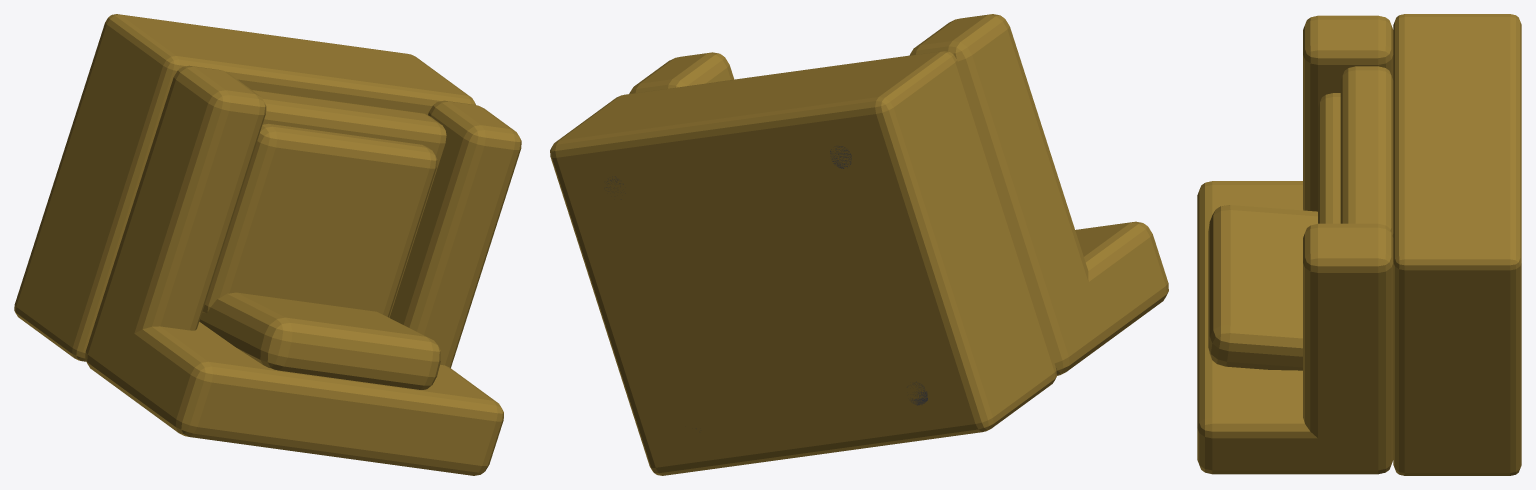
The model's file is lounge_armchair_0.glb.
3 renders of one model, left to right at view 1: azimuth 30°, elevation 25°; view 2: azimuth 150°, elevation 25°; view 3: azimuth 270°, elevation 25°, orthographic. The views are drawn at different scales.
Visible parts, largest first — view 1: armchair0_base, armchair0_back, armchair0_seatpad0, armchair0_arm.001, armchair0_arm, armchair0_cushion0, armchair0_seat; view 2: armchair0_base, armchair0_arm.001, armchair0_back, armchair0_arm; view 3: armchair0_base, armchair0_arm, armchair0_back, armchair0_cushion0, armchair0_seat, armchair0_arm.001, armchair0_seatpad0.
Part boxes in pixels (x1,y1,x2,y2): armchair0_base: (14, 14, 475, 361); armchair0_back: (119, 322, 503, 475); armchair0_seatpad0: (202, 123, 437, 317); armchair0_arm.001: (85, 65, 266, 391); armchair0_arm: (389, 100, 521, 367); armchair0_cushion0: (199, 292, 440, 389); armchair0_seat: (251, 89, 446, 317); armchair0_base: (550, 51, 1056, 475); armchair0_arm.001: (909, 14, 1104, 375); armchair0_back: (1075, 221, 1168, 345); armchair0_arm: (629, 52, 734, 93); armchair0_base: (1393, 14, 1521, 475); armchair0_arm: (1303, 223, 1393, 474); armchair0_back: (1197, 181, 1388, 474); armchair0_cushion0: (1208, 205, 1317, 370); armchair0_seat: (1340, 66, 1393, 237); armchair0_arm.001: (1303, 15, 1393, 211); armchair0_seatpad0: (1318, 93, 1340, 223).
Bounding box in the file's own units: 1.16 × 1.08 × 0.86.
